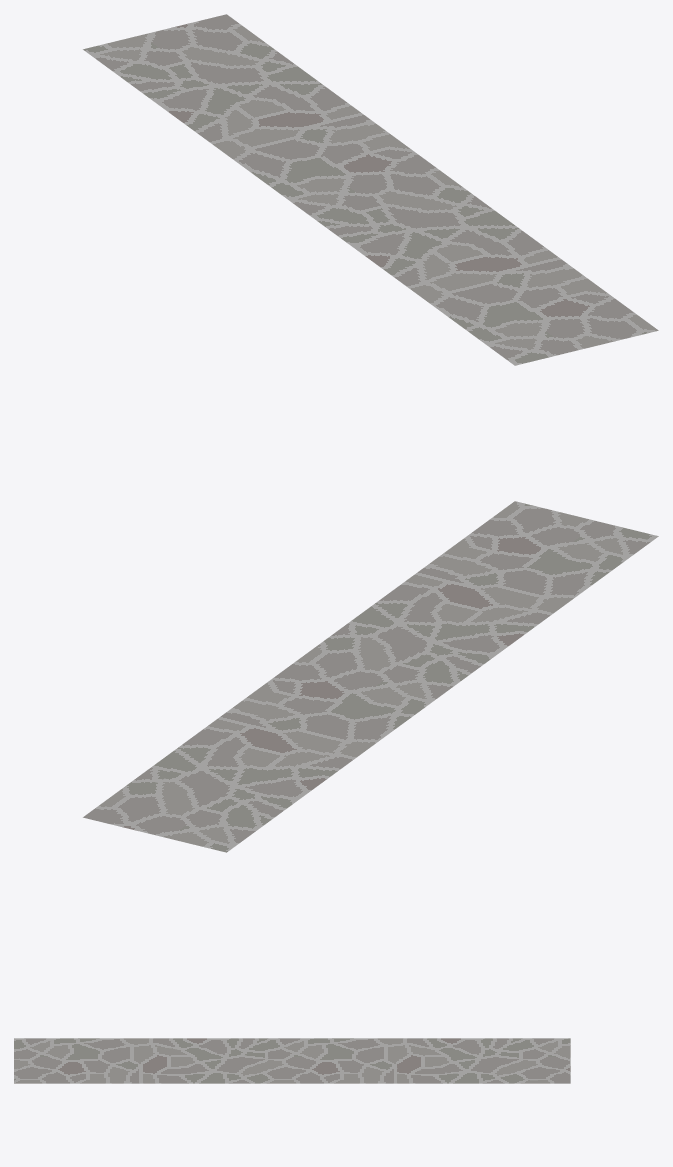
File: kd_stage_135b75_4_24_bounded.glb
3 views of the same model, one above another, from view 1: azimuth 30°, elevation 25°; view 2: azimuth 150°, elevation 25°; view 3: azimuth 270°, elevation 25° (orthographic). The views are drawn at different scales.
Parts seen in each view (by area): view 1: kd_stage_135b75_4_24_bounded; view 2: kd_stage_135b75_4_24_bounded; view 3: kd_stage_135b75_4_24_bounded.
Boxes of the visible parts, x1=… form: kd_stage_135b75_4_24_bounded: x1=83, y1=14, x2=658, y2=365; kd_stage_135b75_4_24_bounded: x1=83, y1=501, x2=658, y2=852; kd_stage_135b75_4_24_bounded: x1=14, y1=1038, x2=570, y2=1083.
Size of the model in its own units: 0.141 by 0.1 by 0.849.
1 material, 1 textured.
